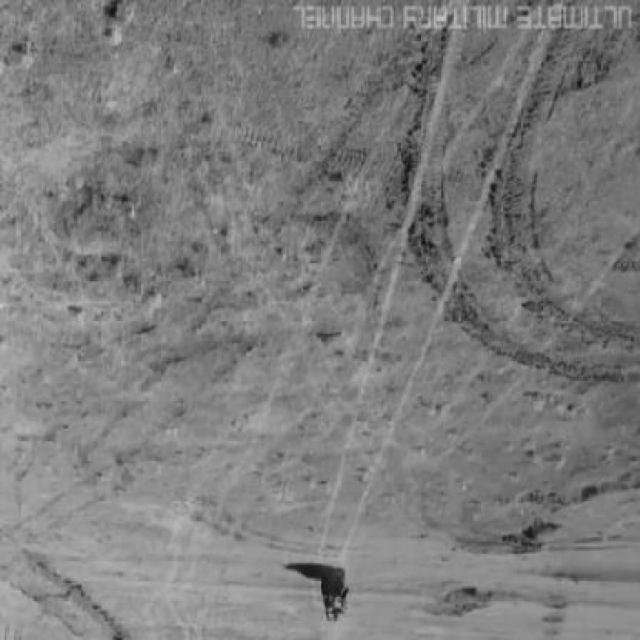Vehicle: (320, 566, 353, 627)
